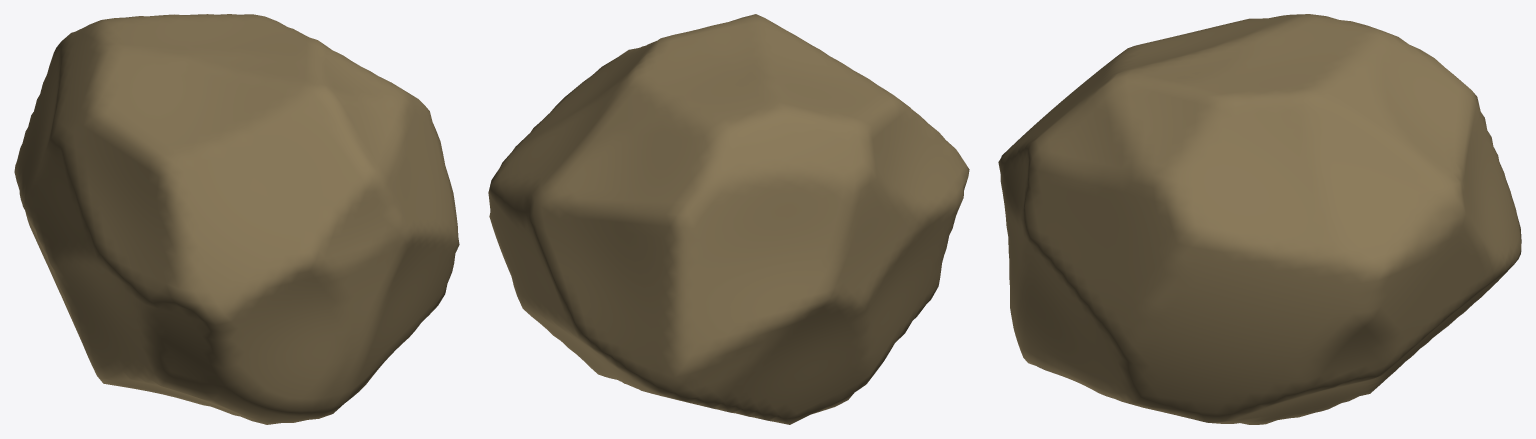
File: Desert Rock prefab.fbx
3 views of the same model, side by side, from view 1: azimuth 30°, elevation 25°; view 2: azimuth 150°, elevation 25°; view 3: azimuth 270°, elevation 25° (orthographic). The views are drawn at different scales.
Parts seen in each view (by area): view 1: GeoSphere001; view 2: GeoSphere001; view 3: GeoSphere001.
Part boxes in pixels (x1,y1,x2,y2): GeoSphere001: (14, 14, 459, 424); GeoSphere001: (488, 14, 969, 424); GeoSphere001: (998, 14, 1521, 424).
Bounding box in the file's own units: 90.85 × 77.18 × 112.
